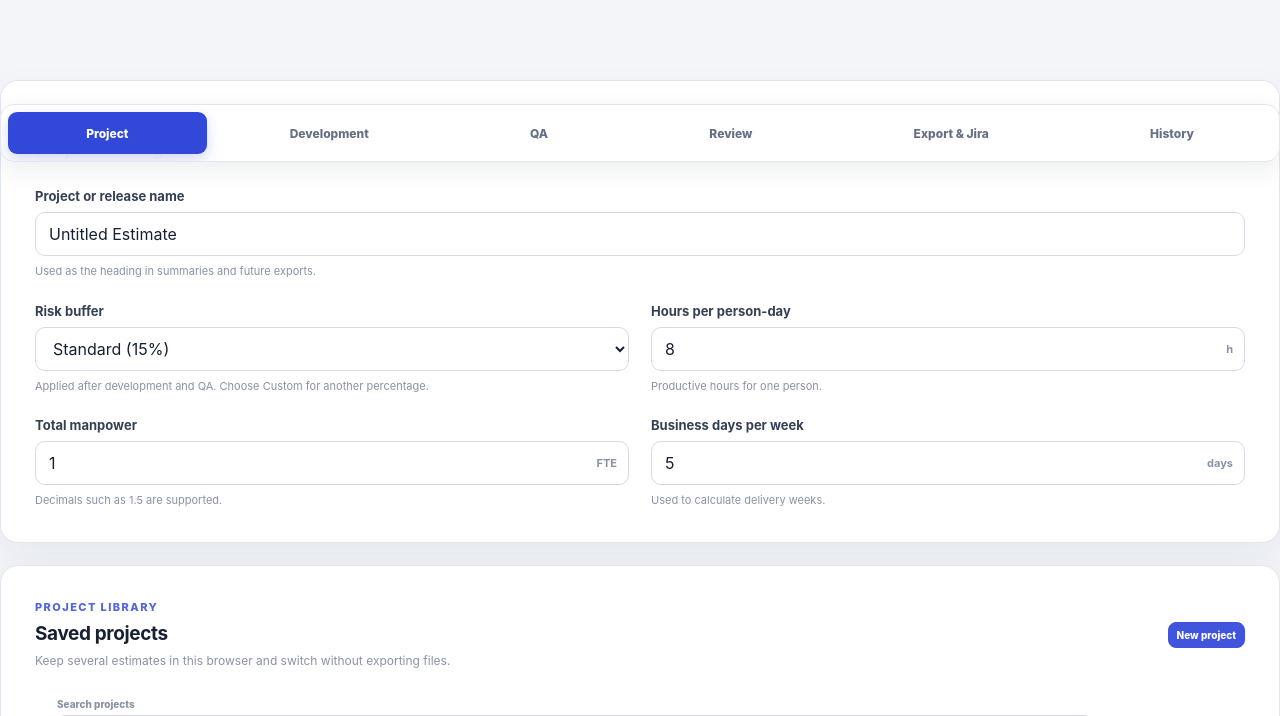
Test case: CalculatorWorkspaceTabs › shows one section while keeping every section mounted
Click the tab "Development": {"x": 329, "y": 133} [212, 112, 447, 154]
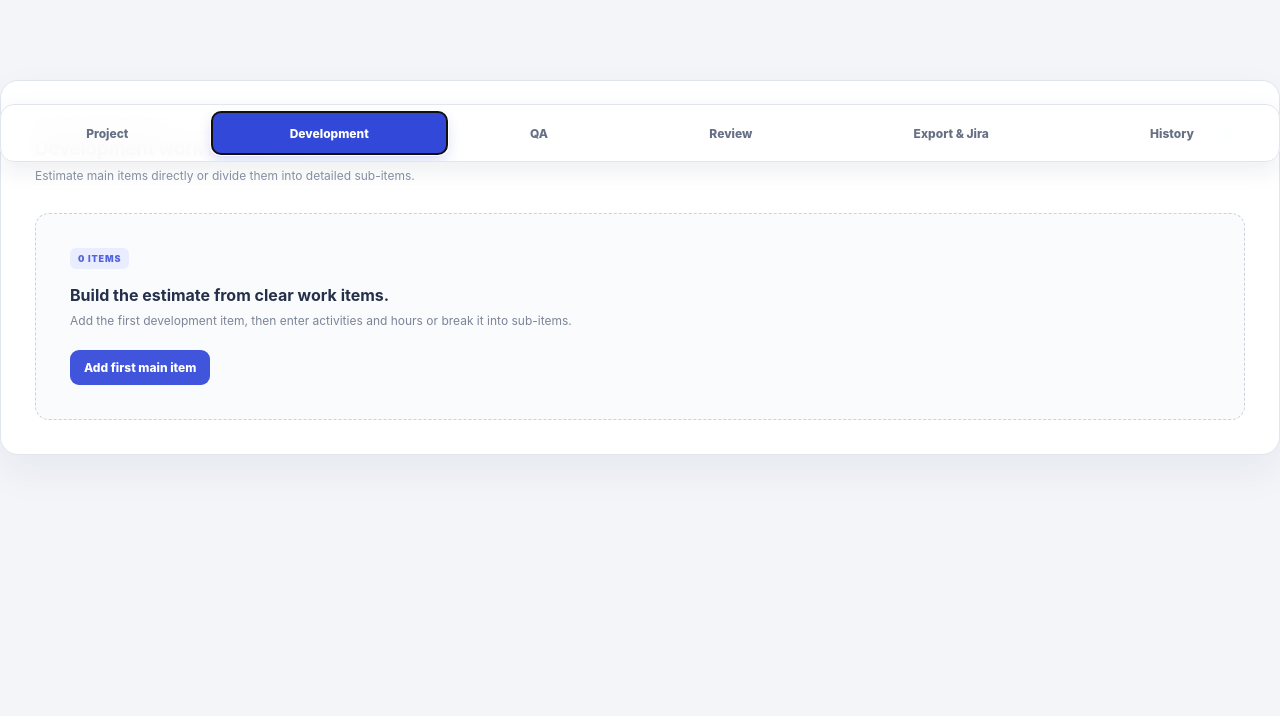
expect the button "Add first main item" is shown: met, box [70, 350, 210, 385]
